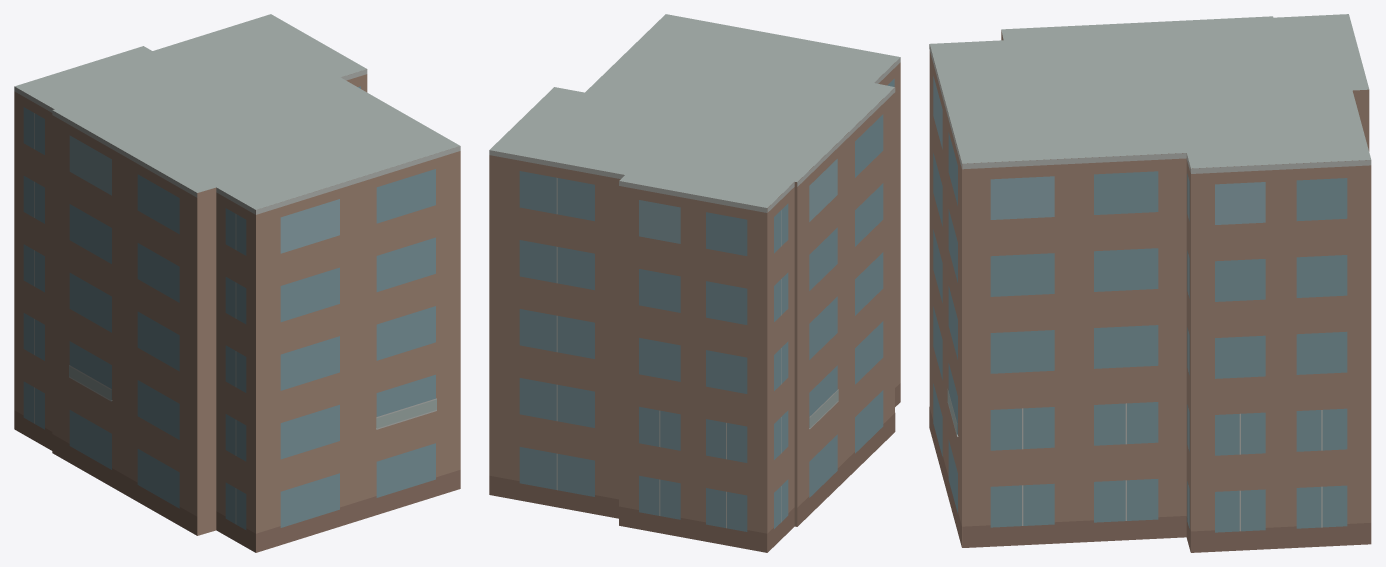
Rendered from survey-upis-32649138.glb.
3 views of the same model, side by side, from view 1: azimuth 30°, elevation 25°; view 2: azimuth 150°, elevation 25°; view 3: azimuth 270°, elevation 25° (orthographic). The views are drawn at different scales.
Parts seen in each view (by area): view 1: survey-upis-32649138.tmp; view 2: survey-upis-32649138.tmp; view 3: survey-upis-32649138.tmp.
Boxes of the visible parts, <box> form: survey-upis-32649138.tmp: <box>14,14,460,552</box>; survey-upis-32649138.tmp: <box>489,14,900,552</box>; survey-upis-32649138.tmp: <box>929,14,1371,552</box>.
Bounding box in the file's own units: 14.58 × 16.9 × 17.61.
